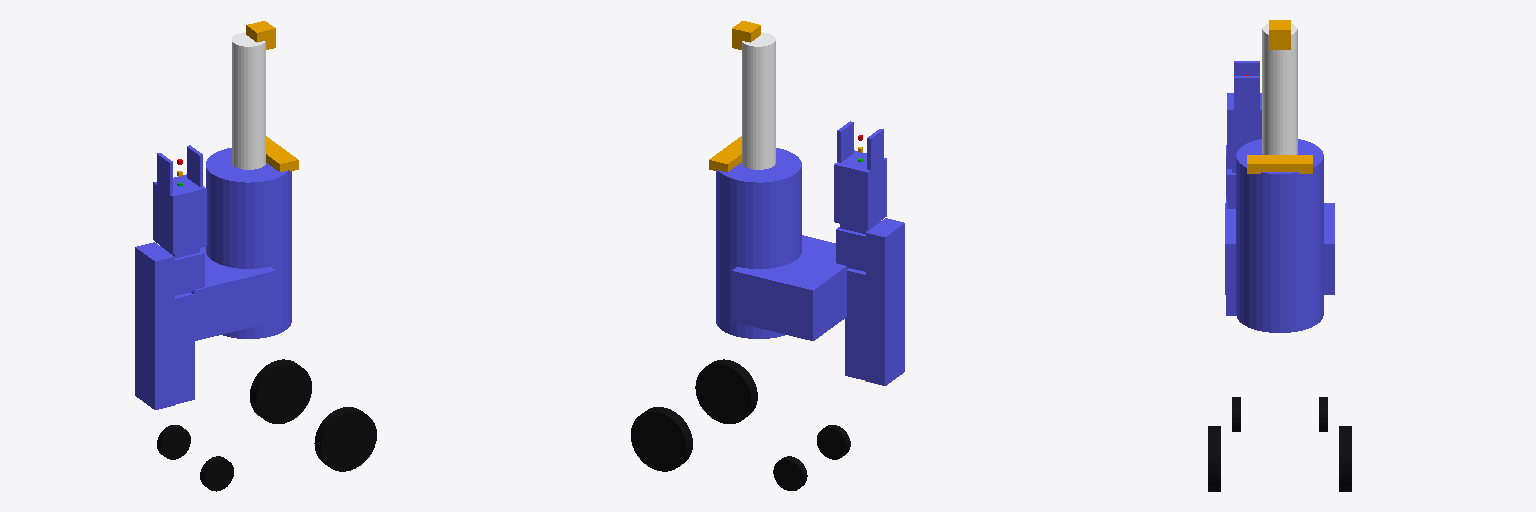
robot.urdf — korus:
<?xml version="1.0" ?>
<!-- =================================================================================== -->
<!-- |    This document was autogenerated by xacro from korus.xacro                    | -->
<!-- |    EDITING THIS FILE BY HAND IS NOT RECOMMENDED                                 | -->
<!-- =================================================================================== -->
<!--  
  == USAGE ==
  
  - loaded into the kinematics node (move_arm.launch).
  - loaded into model viewer (view_model.launch).
  - loaded into robot viewer (view_robot.launch).
  
  == TODO ==
  
   - redo with real parameters later!
   - finish arm visuals
   
  == UPDATE ==
  
  If changing anything here, be sure to:
  
  - yaml/robot/*.yaml (joint name strings)
  - yaml/robot/joints.yaml (joint limits)
  - yaml/mobile_base/diff_drive_base.yaml (wheel name strings, bias, wheel_radius)
  - yaml/mechanisms/gripper,head,stereo_came_tilt.controller (joint name strings)
  - goo/*.yaml (actuator_name strings)
-->
<robot name="korus" xmlns:xacro="http://www.ros.org/wiki/xacro">
  <!-- ************************** Xacro ************************** -->
  <!-- ************************** Base *************************** -->
  <link name="base_footprint"/>
  <joint name="base_joint" type="fixed">
    <parent link="base_footprint"/>
    <child link="base_link"/>
    <origin rpy="0 0 0" xyz="0.0 0.0 0.075"/>
  </joint>
  <link name="base_link">
    <visual>
      <geometry>
        <mesh filename="package://korus_meta/resources/stl/base.stl" scale="0.001 0.001 0.001"/>
      </geometry>
      <origin rpy="1.57079632679 0 1.57079632679" xyz="-0.09 0.0 0.03"/>
      <!--       <geometry> -->
      <!--         <box size="0.522 0.410 0.358" /> -->
      <!--       </geometry> -->
      <!--       <origin rpy="0 0 0" xyz="0.05 0 0.179"/> -->
      <material name="white">
        <color rgba="1 1 1 1"/>
      </material>
    </visual>
  </link>
  <link name="wheel_left">
    <visual>
      <geometry>
        <cylinder length="0.03" radius="0.075"/>
      </geometry>
      <origin rpy="0 1.57079632679 0" xyz="0 0 0"/>
      <material name="black">
        <color rgba="0.1 0.1 0.1 1"/>
      </material>
    </visual>
  </link>
  <joint name="wheel_left" type="continuous">
    <parent link="base_link"/>
    <child link="wheel_left"/>
    <origin rpy="0 0 1.57079632679" xyz="0.0 0.15 0.0"/>
  </joint>
  <link name="wheel_right">
    <visual>
      <geometry>
        <cylinder length="0.03" radius="0.075"/>
      </geometry>
      <origin rpy="0 1.57079632679 0" xyz="0 0 0"/>
      <material name="black">
        <color rgba="0.1 0.1 0.1 1"/>
      </material>
    </visual>
  </link>
  <joint name="wheel_right" type="continuous">
    <parent link="base_link"/>
    <child link="wheel_right"/>
    <origin rpy="0 0 1.57079632679" xyz="0.0 -0.15 0.0"/>
  </joint>
  <link name="caster_left">
    <visual>
      <geometry>
        <cylinder length="0.02" radius="0.04"/>
      </geometry>
      <origin rpy="0 1.57079632679 0" xyz="0 0 0"/>
      <material name="black">
        <color rgba="0.1 0.1 0.1 1"/>
      </material>
    </visual>
  </link>
  <joint name="caster_left" type="fixed">
    <parent link="base_link"/>
    <child link="caster_left"/>
    <origin rpy="0 0 1.57079632679" xyz="-0.315 0.1 -0.035"/>
  </joint>
  <link name="caster_right">
    <visual>
      <geometry>
        <cylinder length="0.02" radius="0.04"/>
      </geometry>
      <origin rpy="0 1.57079632679 0" xyz="0 0 0"/>
      <material name="black">
        <color rgba="0.1 0.1 0.1 1"/>
      </material>
    </visual>
  </link>
  <joint name="caster_right" type="fixed">
    <parent link="base_link"/>
    <child link="caster_right"/>
    <origin rpy="0 0 1.57079632679" xyz="-0.315 -0.1 -0.035"/>
  </joint>
  <!-- ************************** Body ************************** -->
  <joint name="body" type="fixed">
    <parent link="base_link"/>
    <child link="body_link"/>
    <origin rpy="0 0 0" xyz="-0.1725 0.0 0.282"/>
  </joint>
  <link name="body_link">
  </link>
  <!-- ************************** Head ************************** -->
  <joint name="head" type="fixed">
    <parent link="body_link"/>
    <child link="head_link"/>
    <origin rpy="0 0 0" xyz="0 0 0.4045"/>
  </joint>
  <link name="head_link">
    <visual>
      <geometry>
        <cylinder length="0.3145" radius="0.04"/>
      </geometry>
      <origin rpy="0 0 0" xyz="0 0 0.15725"/>
      <material name="white">
        <color rgba="1 1 1 1"/>
      </material>
    </visual>
  </link>
  <!-- *********************** StereoCam ************************ -->
  <joint name="stereo_cam_tilt" type="revolute">
    <parent link="head_link"/>
    <child link="stereo_cam_tilt_link"/>
    <origin rpy="0 0 1.57079632679" xyz="0.065 0 0.004"/>
    <limit effort="10" lower="-0.08722" upper="1.62333" velocity="0.013"/>
  </joint>
  <link name="stereo_cam_tilt_link">
    <visual>
      <geometry>
        <box size="0.05 0.15 0.025"/>
      </geometry>
      <origin rpy="0 0 -1.57079632679" xyz="0.0 0.0 0.0"/>
      <material name="orange">
        <color rgba="1.0 0.7 0.0 1"/>
      </material>
    </visual>
  </link>
  <!-- ************************ TeleCam ************************* -->
  <joint name="tele_cam_tilt" type="revolute">
    <parent link="head_link"/>
    <child link="tele_cam_tilt_link"/>
    <origin rpy="0 0 1.57079632679" xyz="0.0325 0.0 0.3145"/>
    <limit effort="10" lower="-0.5957" upper="0.5957" velocity="0.013"/>
  </joint>
  <link name="tele_cam_tilt_link"/>
  <joint name="tele_cam_pan" type="revolute">
    <parent link="tele_cam_tilt_link"/>
    <child link="tele_cam_pan_link"/>
    <origin rpy="0 -1.57079632679 0" xyz="0.0 0.0 0.0"/>
    <limit effort="10" lower="-0.7888" upper="0.7888" velocity="0.013"/>
  </joint>
  <link name="tele_cam_pan_link">
    <visual>
      <geometry>
        <box size="0.05 0.05 0.05"/>
      </geometry>
      <origin rpy="-1.57079632679 0 1.57079632679" xyz="0.0 0.0 0.0"/>
      <material name="orange">
        <color rgba="1.0 0.7 0.0 1"/>
      </material>
    </visual>
  </link>
  <!-- ************************** Arm *************************** -->
  <joint name="torso_turn" type="revolute">
    <parent link="body_link"/>
    <child link="torso_turn_link"/>
    <origin rpy="0 0 0" xyz="0 0 0"/>
    <axis xyz="0 0 1"/>
    <limit effort="10" lower="-0.0873" upper="2.2689" velocity="0.013"/>
    <!-- <safety_controller k_velocity="10"/> -->
  </joint>
  <link name="torso_turn_link">
    <visual>
      <geometry>
        <cylinder length="0.4" radius="0.1"/>
      </geometry>
      <origin rpy="0 0 0" xyz="0 0 0.2"/>
      <material name="grey_blue">
        <color rgba="0.4 0.4 1.0 1"/>
      </material>
    </visual>
  </link>
  <joint name="torso_lift_offset" type="fixed">
    <parent link="torso_turn_link"/>
    <child link="torso_lift_offset_link"/>
    <origin rpy="0 0 0" xyz="0 0 0.114"/>
    <axis xyz="0 0 1"/>
  </joint>
  <link name="torso_lift_offset_link"/>
  <joint name="torso_lift" type="prismatic">
    <parent link="torso_lift_offset_link"/>
    <child link="torso_lift_link"/>
    <origin rpy="0 0 0" xyz="0 0 0"/>
    <axis xyz="0 0 1"/>
    <limit effort="10" lower="0.0" upper="0.16" velocity="0.013"/>
    <safety_controller k_velocity="10"/>
  </joint>
  <link name="torso_lift_link">
    <visual>
      <geometry>
        <box size="0.2185 0.25 0.13"/>
      </geometry>
      <origin rpy="0 0 0" xyz="-0.10925 0.0 0.0"/>
      <material name="grey_blue">
        <color rgba="0.4 0.4 1.0 1"/>
      </material>
    </visual>
  </link>
  <joint name="shoulder_pitch" type="revolute">
    <parent link="torso_lift_link"/>
    <child link="shoulder_pitch_link"/>
    <origin rpy="3.14159265359 1.57079632679 0.0" xyz="-0.241 -0.076 0"/>
    <axis xyz="0 0 1"/>
    <limit effort="10" lower="-1.7453" upper="2.618" velocity="0.013"/>
    <safety_controller k_velocity="10"/>
  </joint>
  <link name="shoulder_pitch_link">
    <visual>
      <geometry>
        <box size="0.270 0.093 0.055"/>
      </geometry>
      <origin rpy="0 0 0" xyz="0.081 0.0 0.0"/>
      <material name="grey_blue">
        <color rgba="0.4 0.4 1.0 1"/>
      </material>
    </visual>
  </link>
  <joint name="elbow_pitch" type="revolute">
    <parent link="shoulder_pitch_link"/>
    <child link="elbow_pitch_link"/>
    <origin rpy="0 0 3.141592" xyz="0.162 0.0 0.045"/>
    <axis xyz="0 0 1"/>
    <limit effort="10" lower="-3.1416" upper="0.05" velocity="0.013"/>
  </joint>
  <link name="elbow_pitch_link">
    <visual>
      <geometry>
        <box size="0.380 0.093 0.053"/>
      </geometry>
      <origin rpy="0 0 0" xyz="0.134 0.00 0.009"/>
      <material name="grey_blue">
        <color rgba="0.4 0.4 1.0 1"/>
      </material>
    </visual>
  </link>
  <joint name="wrist_pitch" type="revolute">
    <parent link="elbow_pitch_link"/>
    <child link="wrist_pitch_link"/>
    <origin rpy="0 0 0" xyz="0.268 0.0 -0.058"/>
    <axis xyz="0 0 1"/>
    <limit effort="10" lower="-1.7453" upper="1.7453" velocity="0.013"/>
    <safety_controller k_velocity="10"/>
  </joint>
  <link name="wrist_pitch_link">
    <visual>
      <geometry>
        <box size="0.09 0.09 0.081"/>
      </geometry>
      <origin rpy="0 0 0" xyz="0.0 0.0 0.0"/>
      <material name="grey_blue">
        <color rgba="0.4 0.4 1.0 1"/>
      </material>
    </visual>
  </link>
  <joint name="wrist_roll" type="revolute">
    <parent link="wrist_pitch_link"/>
    <child link="wrist_roll_link"/>
    <origin rpy="0 1.57079632679 0.0" xyz="0.045 0 0"/>
    <axis xyz="0 0 1"/>
    <limit effort="10" lower="-2.0944" upper="2.0944" velocity="0.013"/>
    <safety_controller k_velocity="10"/>
  </joint>
  <link name="wrist_roll_link">
    <visual>
      <geometry>
        <box size="0.068 0.068 0.068"/>
      </geometry>
      <origin rpy="0 0 0" xyz="0.0 0.0 0.034"/>
      <material name="grey_blue">
        <color rgba="0.4 0.4 1.0 1"/>
      </material>
    </visual>
  </link>
  <joint name="wrist_yaw" type="revolute">
    <parent link="wrist_roll_link"/>
    <child link="wrist_yaw_link"/>
    <origin rpy="1.57079632679 -1.57079632679 0.0" xyz="0 0 0.034"/>
    <axis xyz="0 0 1"/>
    <limit effort="10" lower="-1.6232" upper="1.6232" velocity="0.013"/>
    <safety_controller k_velocity="10"/>
  </joint>
  <link name="wrist_yaw_link">
    <visual>
      <geometry>
        <box size="0.148 0.09 0.09"/>
      </geometry>
      <origin rpy="0 0 0" xyz="0.057 0.0 0.0"/>
      <material name="grey_blue">
        <color rgba="0.4 0.4 1.0 1"/>
      </material>
    </visual>
  </link>
  <!-- Endeffector (gripper) -->
  <joint name="gripper_palm" type="fixed">
    <parent link="wrist_yaw_link"/>
    <child link="gripper_palm_link"/>
    <origin rpy="0.0 0.0 0.0" xyz="0.131 0 0"/>
    <axis xyz="0 0 1"/>
    <limit effort="10" lower="-1.6232" upper="1.6232" velocity="0.013"/>
    <safety_controller k_velocity="10"/>
  </joint>
  <link name="gripper_palm_link">
    <visual>
      <geometry>
        <box size="0.01 0.01 0.01"/>
      </geometry>
      <origin rpy="0 0 0" xyz="0.0 0.0 0.0"/>
      <material name="green">
        <color rgba="0 .8 0 1"/>
      </material>
    </visual>
  </link>
  <!-- center of the volume covered by the fingers -->
  <joint name="gripper_center" type="fixed">
    <parent link="wrist_yaw_link"/>
    <child link="gripper_center_link"/>
    <origin rpy="0 0 0" xyz="0.161 0 0"/>
  </joint>
  <link name="gripper_center_link">
    <visual>
      <geometry>
        <box size="0.01 0.01 0.01"/>
      </geometry>
      <origin rpy="0 0 0" xyz="0.0 0.0 0.0"/>
      <material name="orange">
        <color rgba="1.0 0.7 0.0 1"/>
      </material>
    </visual>
  </link>
  <joint name="gripper_tip" type="fixed">
    <parent link="wrist_yaw_link"/>
    <child link="gripper_tip_link"/>
    <origin rpy="0.0 0.0 0.0" xyz="0.191 0 0"/>
  </joint>
  <link name="gripper_tip_link">
    <visual>
      <geometry>
        <box size="0.01 0.01 0.01"/>
      </geometry>
      <origin rpy="0 0 0" xyz="0.0 0.0 0.0"/>
      <material name="orange">
        <color rgba="1.0 0.0 0.0 1"/>
      </material>
    </visual>
  </link>
  <joint name="gripper_one_finger" type="revolute">
    <parent link="wrist_yaw_link"/>
    <child link="gripper_one_finger_tip_link"/>
    <origin rpy="0.0 0.0 0.0" xyz="0.131 -0.04 0.0"/>
    <axis xyz="0 0 1"/>
    <limit effort="10" lower="-1.22173" upper="1.22173" velocity="0.013"/>
    <safety_controller k_velocity="10"/>
  </joint>
  <link name="gripper_one_finger_tip_link">
    <visual>
      <geometry>
        <box size="0.10 0.06 0.01"/>
      </geometry>
      <origin rpy="1.57079632679 0 0" xyz="0.03 0.0 0.0"/>
      <material name="grey_blue">
        <color rgba="0.4 0.4 1.0 1"/>
      </material>
    </visual>
  </link>
  <joint name="gripper_two_fingers" type="revolute">
    <parent link="wrist_yaw_link"/>
    <child link="gripper_two_fingers_tip_link"/>
    <origin rpy="3.14159265359 0.0 0.0" xyz="0.131 0.04 0.0"/>
    <axis xyz="0 0 1"/>
    <limit effort="10" lower="-1.22173" upper="1.22173" velocity="0.013"/>
    <safety_controller k_velocity="10"/>
  </joint>
  <link name="gripper_two_fingers_tip_link">
    <visual>
      <geometry>
        <box size="0.10 0.06 0.01"/>
      </geometry>
      <origin rpy="1.57079632679 0 0" xyz="0.03 0.0 0.0"/>
      <material name="grey_blue">
        <color rgba="0.4 0.4 1.0 1"/>
      </material>
    </visual>
  </link>
</robot>

--- What the picture shows (computed from the rendered views, not written in the file) ---
Views: 3 orthographic renders of the robot side by side, from view 1: azimuth 30°, elevation 25°; view 2: azimuth 150°, elevation 25°; view 3: azimuth 270°, elevation 25°.
Robot: korus — 24 links, 23 joints (11 revolute, 2 continuous, 1 prismatic, 9 fixed); root link base_footprint; default pose: every joint at zero.
Visible links, largest first — view 1: torso_turn_link, elbow_pitch_link, torso_lift_link, head_link, wrist_yaw_link, wheel_right, wheel_left, shoulder_pitch_link, wrist_pitch_link, caster_left, caster_right, stereo_cam_tilt_link (+3 smaller); view 2: torso_turn_link, torso_lift_link, elbow_pitch_link, head_link, wrist_yaw_link, wheel_left, wheel_right, shoulder_pitch_link, wrist_pitch_link, caster_left, caster_right, stereo_cam_tilt_link (+3 smaller); view 3: torso_turn_link, head_link, torso_lift_link, wrist_yaw_link, stereo_cam_tilt_link, gripper_one_finger_tip_link, wheel_left, wheel_right, tele_cam_pan_link.
Link boxes in pixels (x1,y1,x2,y2): torso_turn_link: [206, 148, 291, 338]; elbow_pitch_link: [135, 242, 174, 409]; torso_lift_link: [191, 247, 275, 340]; head_link: [232, 32, 265, 169]; wrist_yaw_link: [153, 174, 206, 253]; wheel_right: [314, 407, 376, 471]; wheel_left: [250, 359, 311, 423]; shoulder_pitch_link: [175, 292, 194, 404]; wrist_pitch_link: [175, 250, 204, 295]; caster_left: [157, 425, 190, 459]; caster_right: [200, 456, 233, 491]; stereo_cam_tilt_link: [266, 136, 298, 171]; torso_turn_link: [716, 148, 801, 338]; torso_lift_link: [732, 235, 849, 340]; elbow_pitch_link: [866, 218, 904, 385]; head_link: [742, 32, 775, 169]; wrist_yaw_link: [834, 150, 886, 230]; wheel_left: [631, 407, 692, 471]; wheel_right: [695, 359, 757, 423]; shoulder_pitch_link: [845, 268, 865, 380]; wrist_pitch_link: [836, 227, 865, 271]; caster_left: [773, 456, 807, 490]; caster_right: [817, 425, 850, 459]; stereo_cam_tilt_link: [709, 136, 741, 172]; torso_turn_link: [1236, 139, 1323, 332]; head_link: [1262, 23, 1297, 154]; torso_lift_link: [1225, 203, 1334, 294]; wrist_yaw_link: [1227, 93, 1261, 168]; stereo_cam_tilt_link: [1247, 155, 1312, 173]; gripper_one_finger_tip_link: [1234, 76, 1259, 117]; wheel_left: [1339, 426, 1351, 491]; wheel_right: [1208, 426, 1220, 491]; tele_cam_pan_link: [1269, 20, 1290, 49].
Size in the robot's own frame: 0.569 by 0.33 by 1.1 metres.
0 mesh visuals loaded from 1 distinct referenced files (none loaded); not drawn: 1 (reference not matched to a file when rendering).